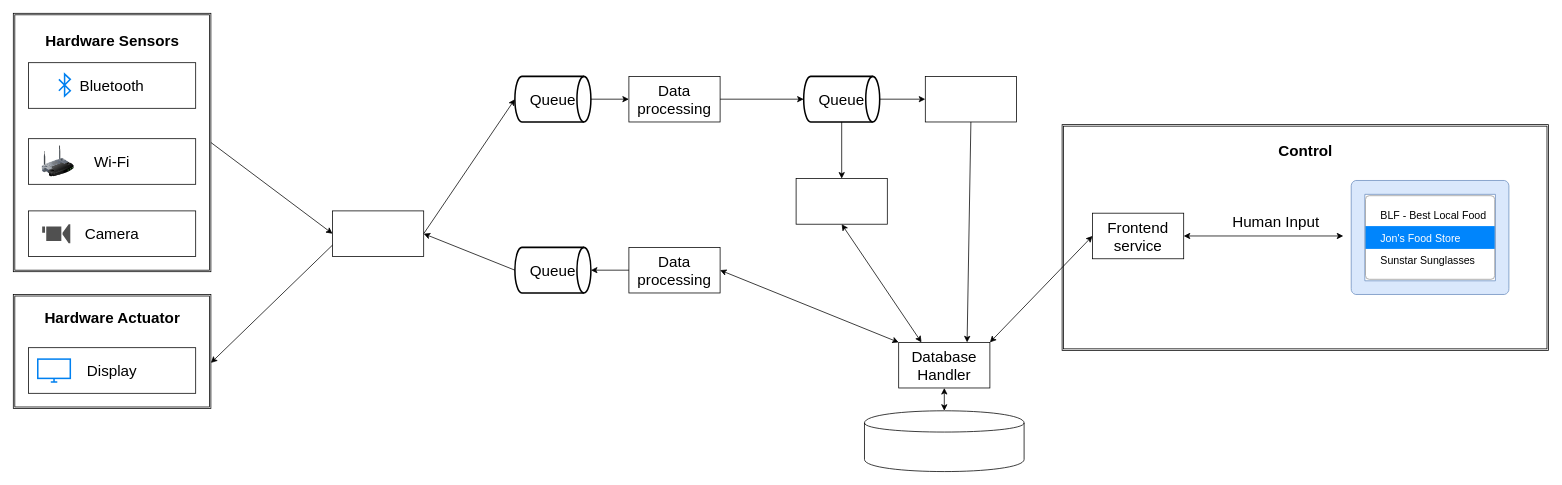
This 1562x485 diagram has some shape labels left out. The shapes that lost their labels are listed below. From the top down, each one's box as (x1, y1, x2, y2) in pixels, then its label:
(925, 76, 1016, 122): Data service
(795, 178, 887, 224): AI Planning service
(332, 210, 424, 256): Controller
(1350, 180, 1509, 294): Web App
(864, 410, 1024, 472): Database
